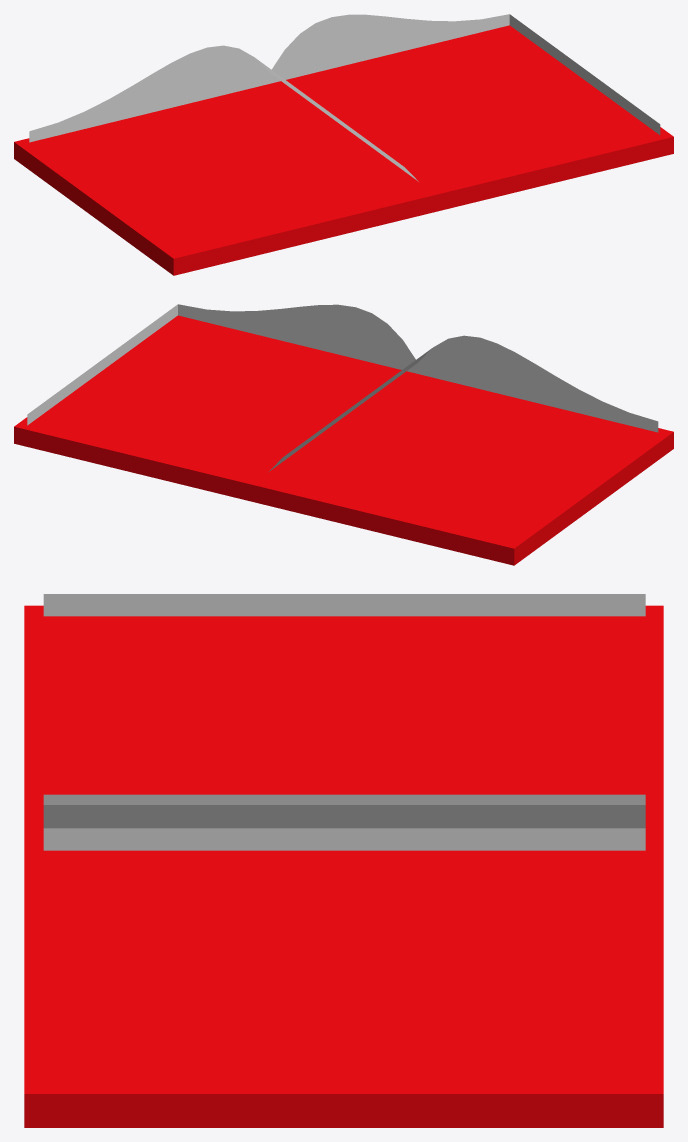
Rendered from openbookred.glb.
The picture shows the model from 3 angles, top to bottom: view 1: azimuth 30°, elevation 25°; view 2: azimuth 150°, elevation 25°; view 3: azimuth 270°, elevation 25°; orthographic projection. The views are drawn at different scales.
Visible parts, largest first — view 1: Cube, BézierCurve; view 2: Cube, BézierCurve; view 3: Cube, BézierCurve.
Part boxes in pixels (x1,y1,x2,y2): Cube: (14, 25, 673, 275); BézierCurve: (29, 14, 660, 181); Cube: (14, 315, 673, 565); BézierCurve: (27, 304, 658, 472); Cube: (24, 605, 663, 1127); BézierCurve: (43, 594, 645, 850).
Size of the model in its own units: 2.88 by 0.3776 by 1.59.
